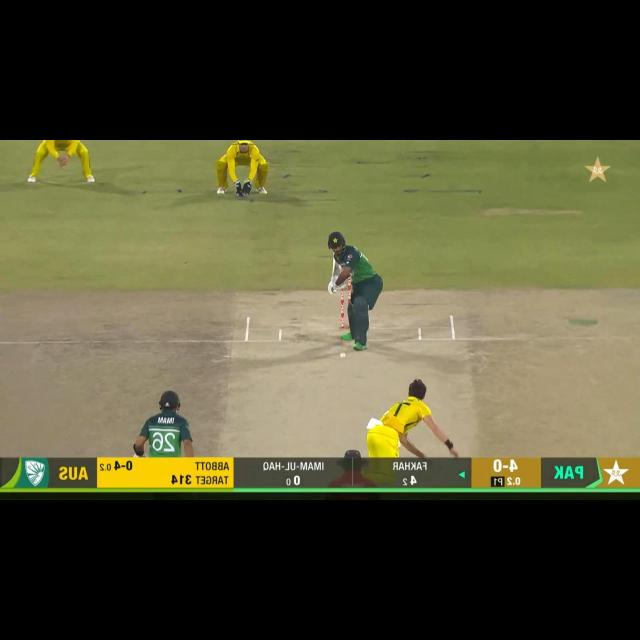bat: (332, 258, 342, 276)
